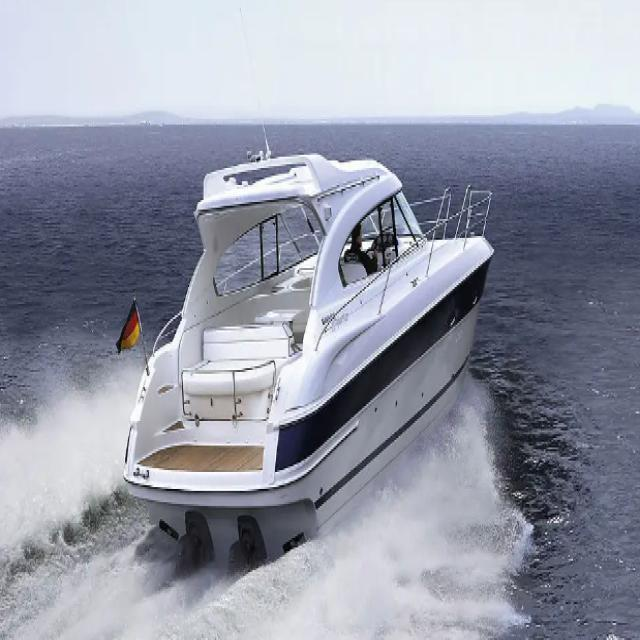houseboat: (128, 147, 491, 543)
